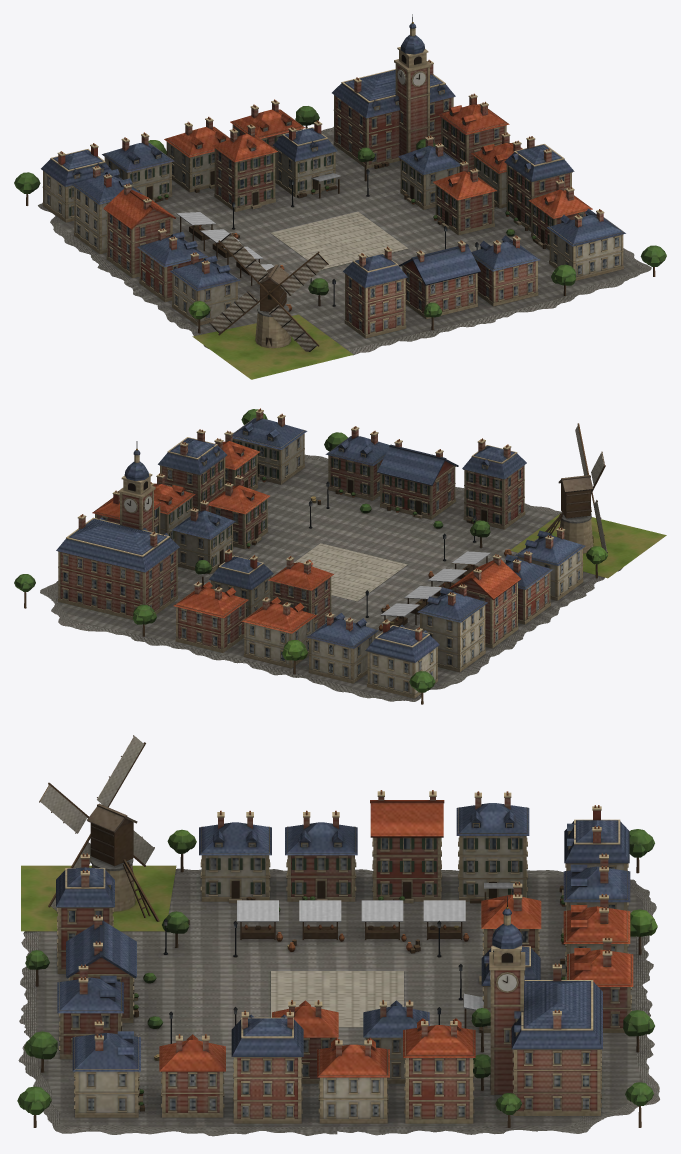
Rendered from gunpowder-town-medium-b.glb.
The picture shows the model from 3 angles, top to bottom: view 1: azimuth 30°, elevation 25°; view 2: azimuth 150°, elevation 25°; view 3: azimuth 270°, elevation 25°; orthographic projection. The views are drawn at different scales.
Parts seen in each view (by area): view 1: LOD0; view 2: LOD0; view 3: LOD0.
Part boxes in pixels (bbox=[...]): LOD0: bbox=[14, 14, 666, 379]; LOD0: bbox=[14, 408, 666, 704]; LOD0: bbox=[17, 735, 659, 1136].
Size of what is drawn, in the model's own units: 6.03 by 2 by 6.09.
3 materials, 3 textured.
